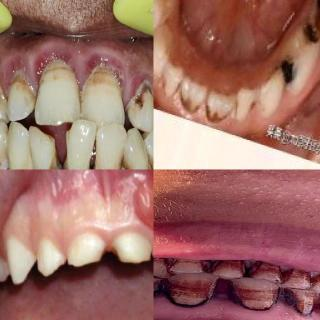Gum Swelling: (0, 42, 154, 107)
calculus: (87, 57, 121, 85), (134, 76, 154, 115), (7, 150, 33, 170), (35, 153, 62, 170), (13, 65, 29, 87), (0, 59, 4, 86)
cavities: (297, 14, 320, 48), (91, 239, 113, 266), (108, 244, 128, 268), (280, 64, 296, 82)
maligned: (33, 49, 76, 131), (80, 61, 123, 125), (63, 109, 101, 170), (89, 119, 125, 169), (8, 68, 36, 120), (0, 116, 8, 169), (0, 70, 6, 128)
stains: (169, 277, 213, 311), (231, 285, 278, 315), (210, 256, 250, 280), (251, 257, 285, 285), (280, 290, 318, 314), (280, 266, 312, 290), (170, 260, 204, 280), (156, 76, 184, 100), (154, 255, 172, 283), (205, 105, 227, 123), (180, 96, 200, 115), (154, 280, 162, 306), (311, 271, 320, 289), (249, 103, 257, 115)
